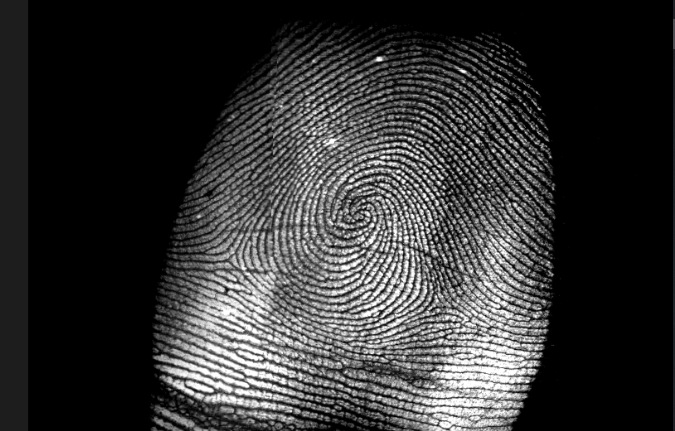deltas: (415, 277, 464, 327), (202, 233, 250, 282)
nucleo: (337, 188, 380, 238)
